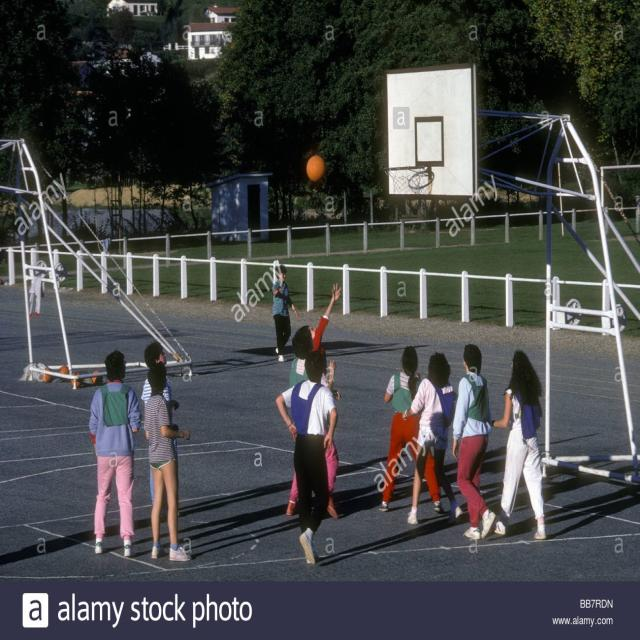body: (93, 437, 640, 563), (274, 348, 339, 566), (87, 349, 143, 558), (489, 348, 547, 542), (401, 349, 464, 526), (378, 344, 442, 514), (144, 362, 192, 562), (451, 342, 498, 540), (140, 339, 181, 518), (0, 531, 94, 573), (301, 281, 342, 357), (271, 264, 301, 362), (288, 338, 416, 358)
